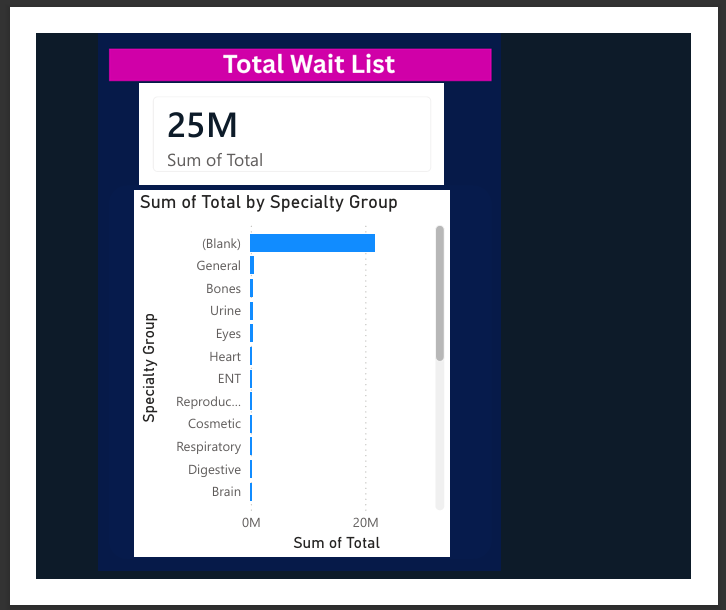

Layout of this report page (visuals, bound fields, positions):
{"tool":"powerbi","page":{"name":"DrillDown","canvas":[600,500],"ordinal":2},"visuals":[{"type":"image","box":[22,0,439,493],"z":0},{"type":"barChart","fields":{"Category":["Mapping_Specialty.Specialty Group"],"Y":["Sum(All_data.Total)"]},"box":[90,144,289,336],"z":1000},{"type":"cardVisual","fields":{"Data":["Sum(All_data.Total)"]},"box":[90,41,289,103],"z":2000}]}

Visuals, with their boxes in screenshot pixels (x1, y1, x2, y2), scaled from the page's 600x500 canvas onto the 726x610 screenshot:
image: 27:0:558:601
barChart - Mapping_Specialty.Specialty Group x Sum(All_data.Total): 109:176:459:586
cardVisual - Sum(All_data.Total): 109:50:459:176
